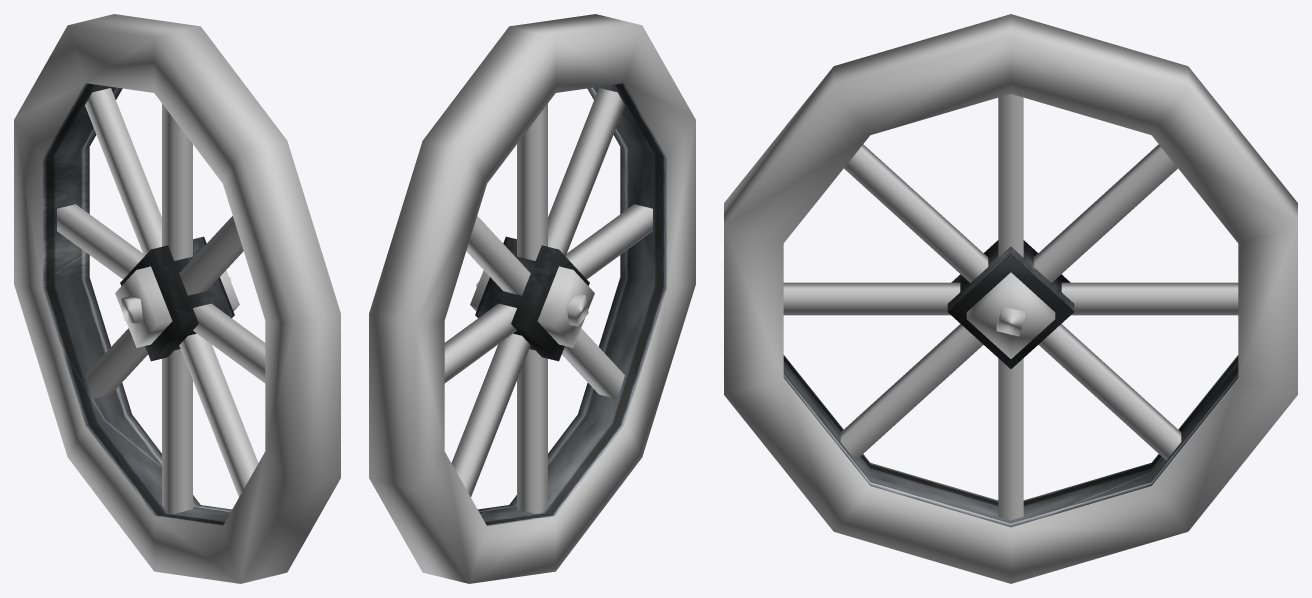
Rendered from Wheel_1.fbx.
The picture shows the model from 3 angles, left to right: view 1: azimuth 30°, elevation 25°; view 2: azimuth 150°, elevation 25°; view 3: azimuth 270°, elevation 25°; orthographic projection. The views are drawn at different scales.
Visible parts, largest first — view 1: Mesh; view 2: Mesh; view 3: Mesh.
Boxes of the visible parts, x1=… form: Mesh: x1=14, y1=14, x2=340, y2=583; Mesh: x1=369, y1=14, x2=695, y2=583; Mesh: x1=724, y1=14, x2=1297, y2=583.
Bounding box in the file's own units: 25.68 × 133 × 126.
